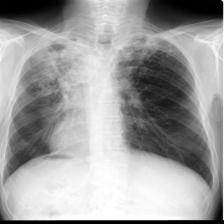tuberculosis: (4, 32, 220, 197)
